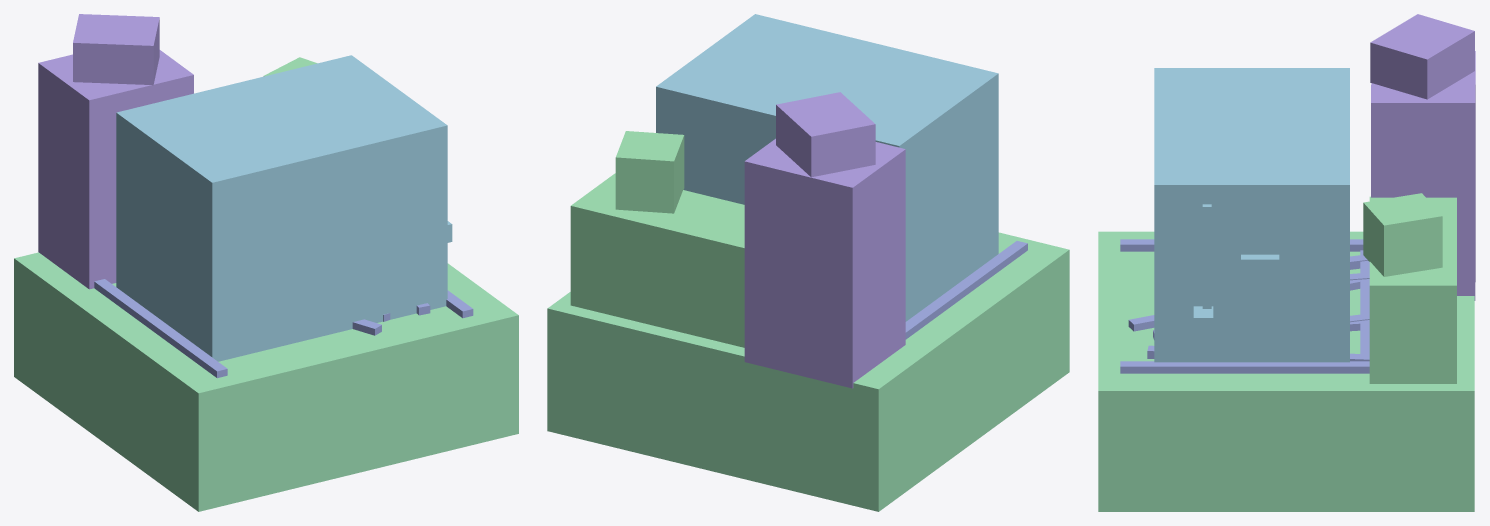
File: refuelstation.glb
The picture shows the model from 3 angles, left to right: view 1: azimuth 30°, elevation 25°; view 2: azimuth 150°, elevation 25°; view 3: azimuth 270°, elevation 25°; orthographic projection. The views are drawn at different scales.
Parts seen in each view (by area): view 1: S5|SM_Fuel_Supply_Crate_01a#0, S1|SM_RefuelStation_stage1#0, S3|SM_FOB_Lonestar_03a#0, S3|SM_MetalShelfLarge_FrameMid_01a#0; view 2: S1|SM_RefuelStation_stage1#0, S5|SM_Fuel_Supply_Crate_01a#0, S3|SM_FOB_Lonestar_03a#0, S4|SM_FOB_Lonestar_02a#0, S3|SM_MetalShelfLarge_FrameMid_01a#0; view 3: S1|SM_RefuelStation_stage1#0, S5|SM_Fuel_Supply_Crate_01a#0, S3|SM_FOB_Lonestar_03a#0, S4|SM_FOB_Lonestar_02a#0, S3|SM_MetalShelfLarge_FrameMid_01a#1, S4|SM_MetalShelfLarge_FrameMid_01a#2, S3|SM_MetalShelfLarge_FrameMid_01a#0, S3|SM_MetalShelfLarge_FrameMid_01a#3.
Part boxes in pixels (x1=…): S5|SM_Fuel_Supply_Crate_01a#0: x1=116, y1=55, x2=452, y2=361; S1|SM_RefuelStation_stage1#0: x1=14, y1=252, x2=518, y2=511; S3|SM_FOB_Lonestar_03a#0: x1=38, y1=14, x2=193, y2=289; S3|SM_MetalShelfLarge_FrameMid_01a#0: x1=94, y1=279, x2=227, y2=378; S1|SM_RefuelStation_stage1#0: x1=547, y1=232, x2=1069, y2=511; S5|SM_Fuel_Supply_Crate_01a#0: x1=656, y1=14, x2=998, y2=321; S3|SM_FOB_Lonestar_03a#0: x1=744, y1=92, x2=905, y2=388; S4|SM_FOB_Lonestar_02a#0: x1=570, y1=131, x2=744, y2=347; S3|SM_MetalShelfLarge_FrameMid_01a#0: x1=905, y1=241, x2=1027, y2=339; S1|SM_RefuelStation_stage1#0: x1=1098, y1=231, x2=1474, y2=511; S5|SM_Fuel_Supply_Crate_01a#0: x1=1154, y1=68, x2=1349, y2=362; S3|SM_FOB_Lonestar_03a#0: x1=1370, y1=14, x2=1475, y2=300; S4|SM_FOB_Lonestar_02a#0: x1=1363, y1=193, x2=1456, y2=383; S3|SM_MetalShelfLarge_FrameMid_01a#1: x1=1120, y1=361, x2=1369, y2=373; S4|SM_MetalShelfLarge_FrameMid_01a#2: x1=1360, y1=250, x2=1369, y2=354; S3|SM_MetalShelfLarge_FrameMid_01a#0: x1=1120, y1=239, x2=1363, y2=251; S3|SM_MetalShelfLarge_FrameMid_01a#3: x1=1128, y1=279, x2=1360, y2=331.
Bounding box in the file's own units: 3.01 × 3.11 × 3.01.
